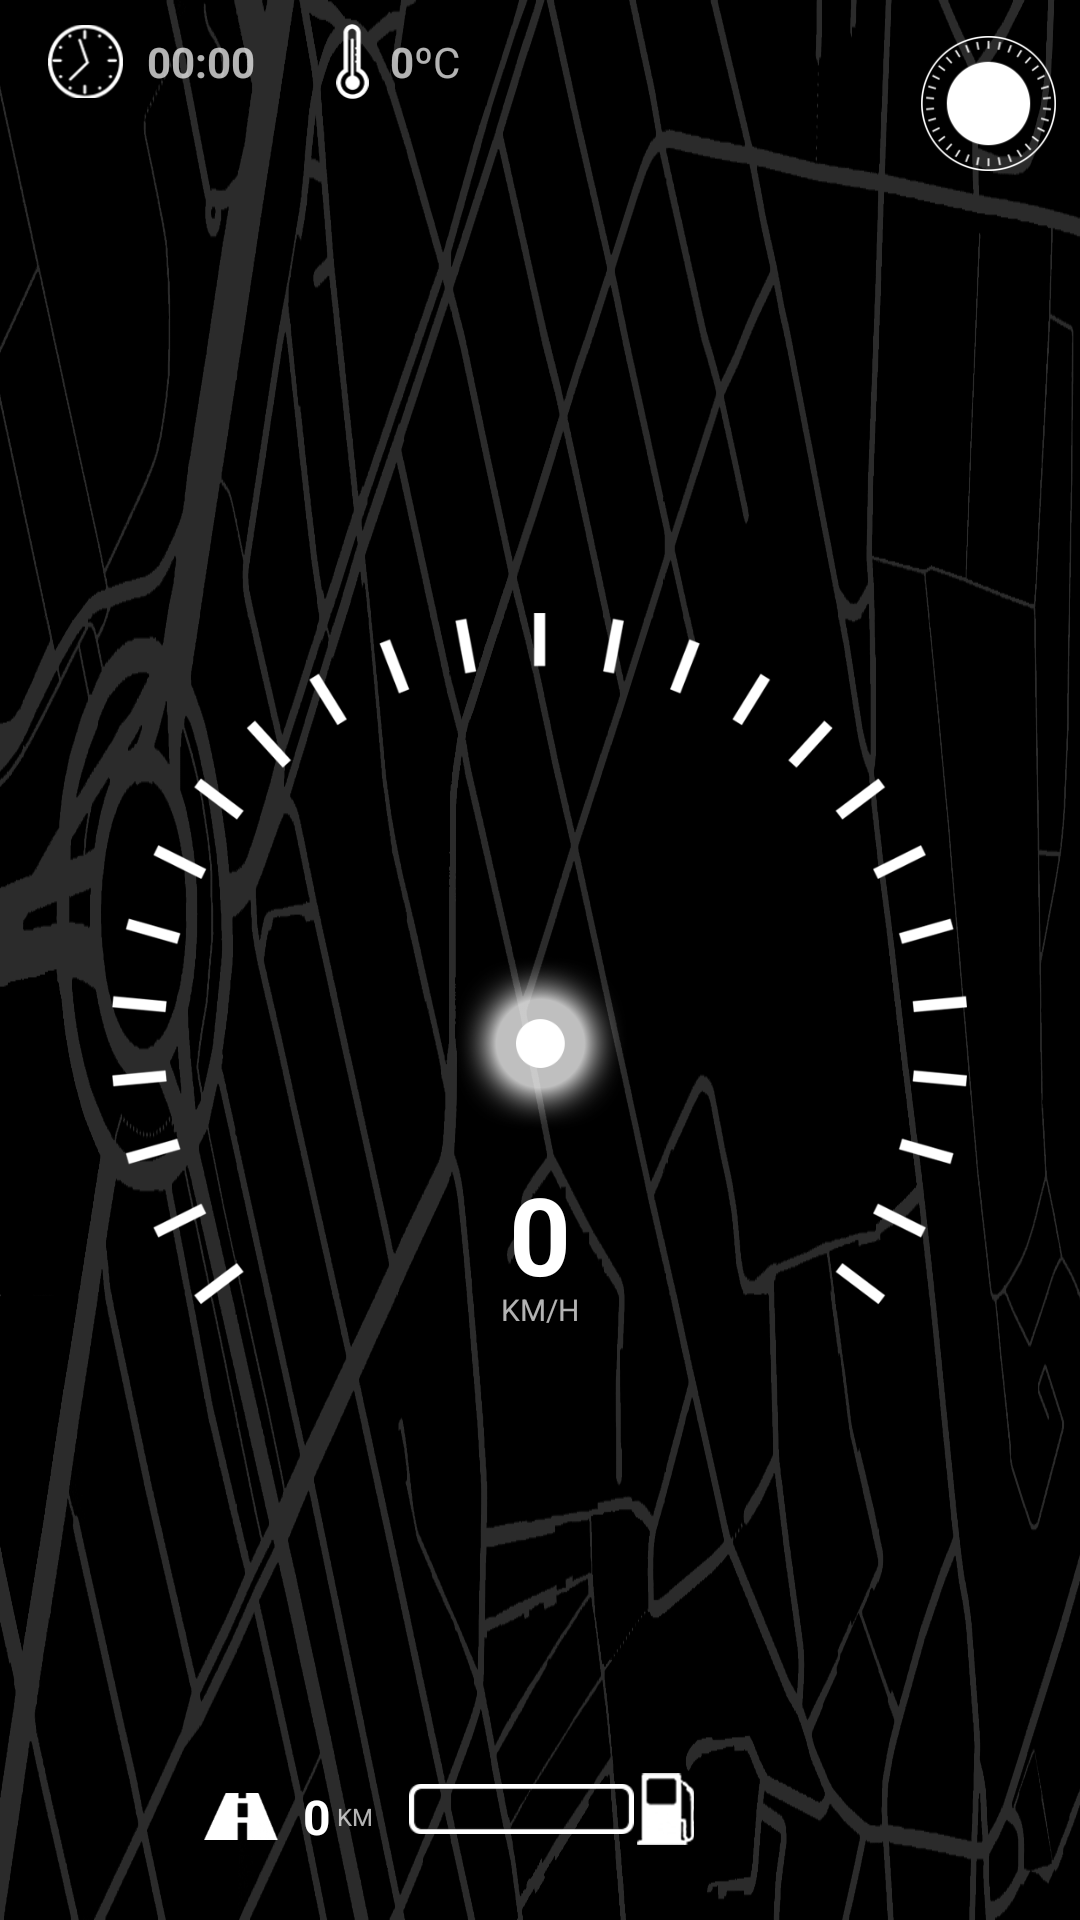

Where icons sit on this 1080px×1920px app screen, as box=[x1, y1, x2, y2]:
appbuttonclosed: box=[921, 36, 1056, 171]
clocksymbol: box=[48, 25, 123, 98]
fuelcellempty: box=[409, 1764, 634, 1854]
fuelsymbol: box=[637, 1773, 694, 1845]
tripsymbol: box=[204, 1793, 279, 1854]
